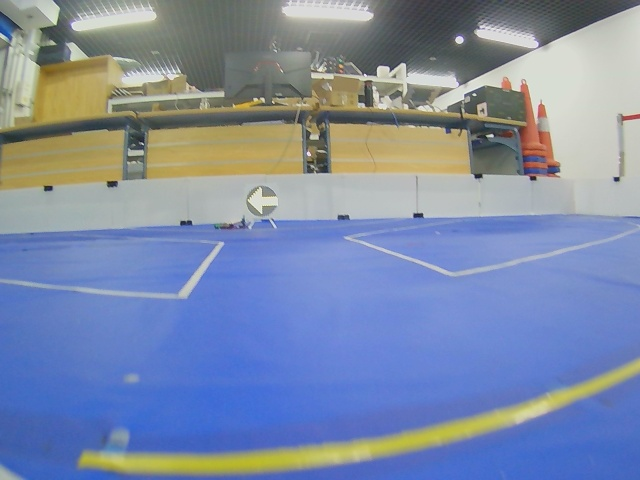left_yellow: (247, 186, 279, 216)
